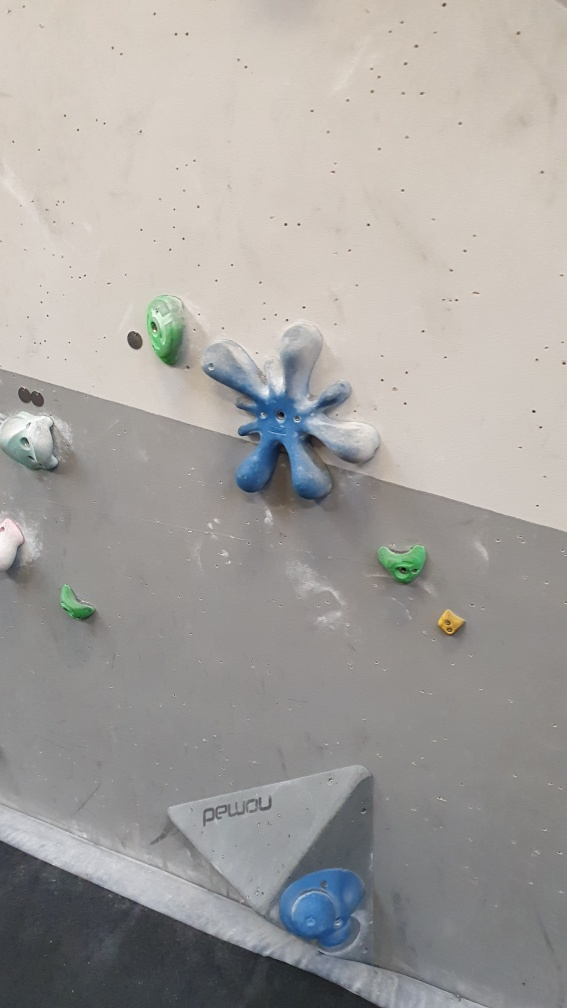Hand Start: (124, 329, 148, 356), (11, 381, 31, 409), (27, 391, 49, 410)
Jug: (9, 406, 66, 474), (145, 288, 191, 370), (374, 538, 431, 588), (56, 584, 99, 625)
Octopus Pinch: (199, 322, 385, 507)
Sloper: (274, 860, 366, 950)
